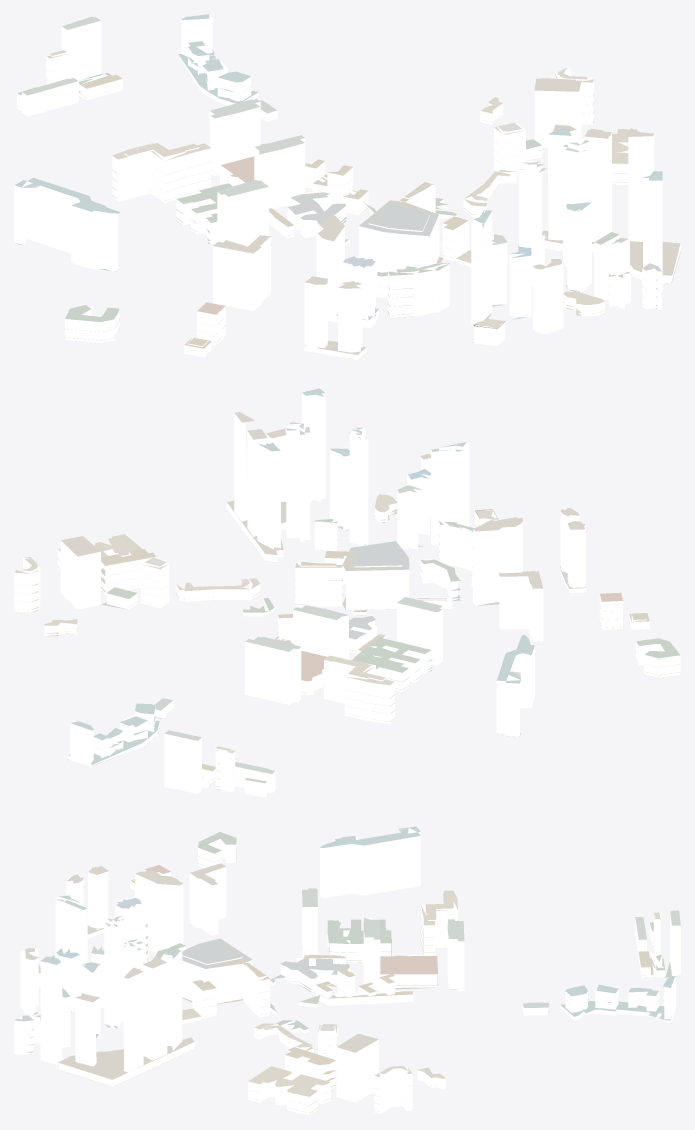
File: buildings-9_2-coarse.glb
3 views of the same model, one above another, from view 1: azimuth 30°, elevation 25°; view 2: azimuth 150°, elevation 25°; view 3: azimuth 270°, elevation 25° (orthographic). The views are drawn at different scales.
Parts seen in each view (by area): view 1: block_9_2_office, block_9_2_residential, block_9_2_roof; view 2: block_9_2_office, block_9_2_residential, block_9_2_roof; view 3: block_9_2_office, block_9_2_roof, block_9_2_residential.
Part boxes in pixels (<box>): block_9_2_office: <box>14,14,662,352</box>; block_9_2_residential: <box>17,43,680,359</box>; block_9_2_roof: <box>14,14,680,354</box>; block_9_2_office: <box>60,393,585,793</box>; block_9_2_residential: <box>14,498,680,797</box>; block_9_2_roof: <box>14,388,680,793</box>; block_9_2_office: <box>20,828,680,1102</box>; block_9_2_roof: <box>14,826,680,1113</box>; block_9_2_residential: <box>14,839,665,1115</box>.
Bounding box in the file's own units: 614 × 116 × 652.
